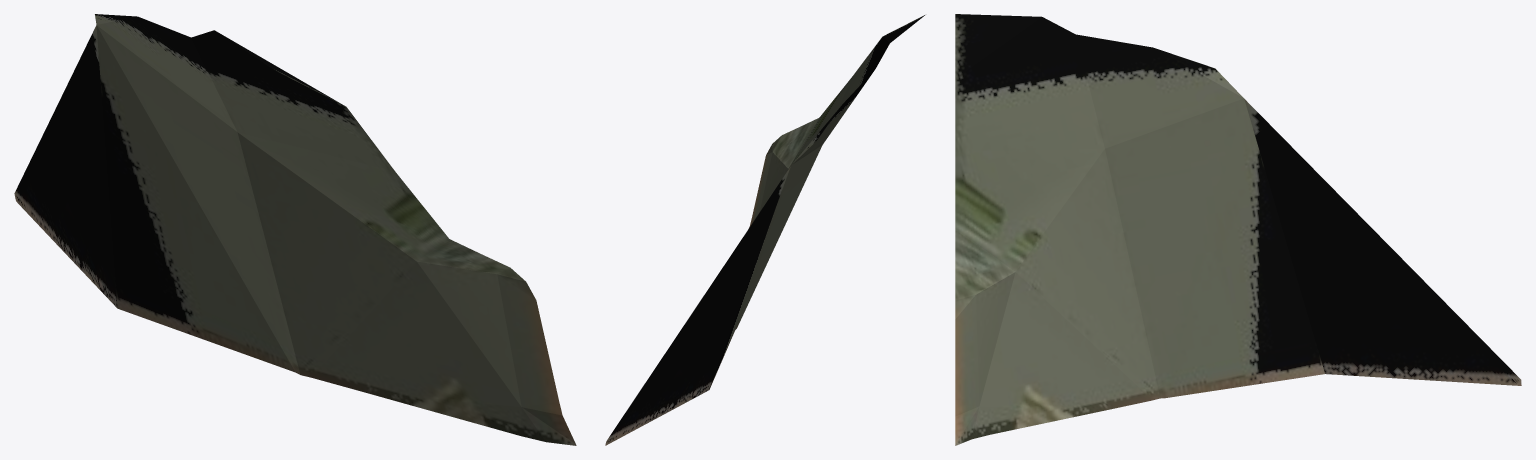
3 views of the same model, side by side, from view 1: azimuth 30°, elevation 25°; view 2: azimuth 150°, elevation 25°; view 3: azimuth 270°, elevation 25° (orthographic). The views are drawn at different scales.
Bounding box in the file's own units: 4.99 × 7.09 × 11.19.
Materials: 1 (1 with a texture image).
